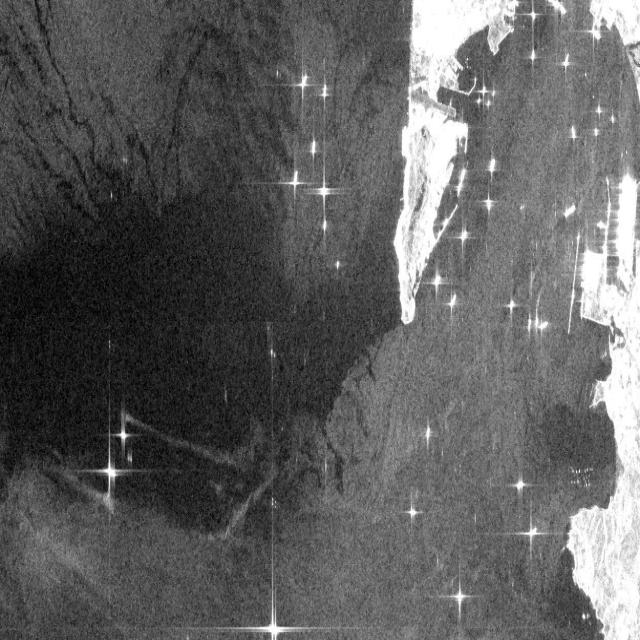look-alike: (25, 3, 117, 185)
ship: (238, 608, 307, 640), (512, 511, 549, 568), (312, 169, 338, 242), (444, 580, 476, 624), (503, 464, 532, 506), (94, 450, 121, 494), (280, 166, 303, 202), (525, 309, 551, 339), (559, 192, 582, 224), (474, 82, 498, 111), (115, 414, 132, 452), (292, 68, 310, 103), (586, 18, 604, 53), (455, 218, 471, 254), (526, 3, 544, 34), (405, 497, 421, 530), (560, 51, 576, 82), (422, 417, 436, 452), (306, 134, 321, 164), (427, 268, 443, 295), (487, 152, 500, 185), (319, 77, 332, 109), (504, 292, 520, 318), (481, 192, 496, 216), (446, 294, 458, 322), (528, 42, 538, 71), (594, 97, 606, 121), (569, 121, 578, 149), (590, 122, 602, 143), (333, 255, 343, 272), (610, 109, 617, 130)
